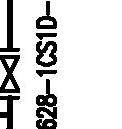verticaltext: (36, 1, 60, 128)
